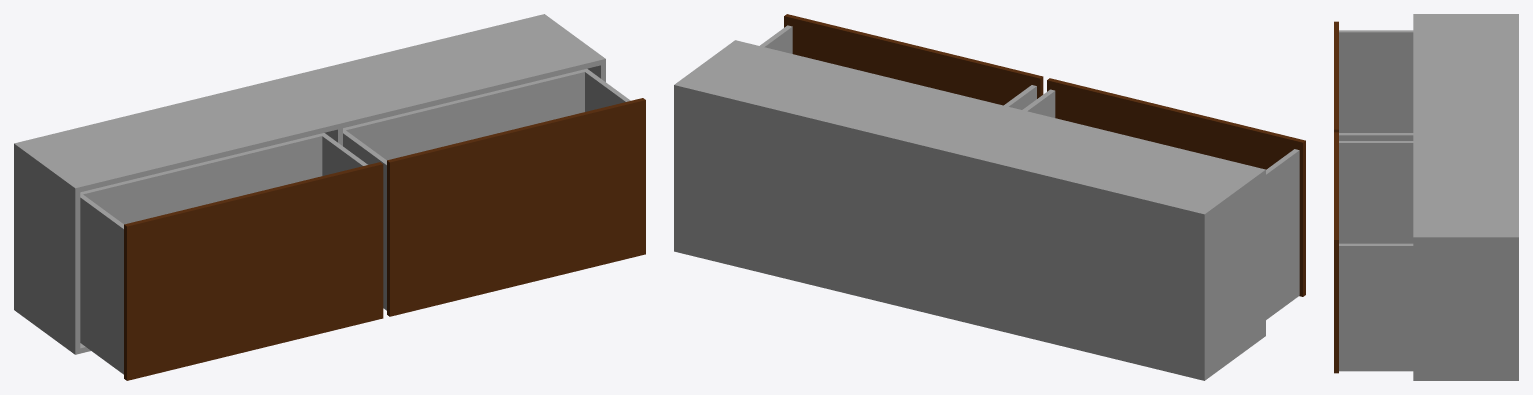
File: meuble_690f6765af9e5.glb
3 renders of one model, left to right at view 1: azimuth 30°, elevation 25°; view 2: azimuth 150°, elevation 25°; view 3: azimuth 270°, elevation 25°, orthographic. The views are drawn at different scales.
Parts seen in each view (by area): view 1: world; view 2: world; view 3: world.
Boxes of the visible parts, x1,y1,x2,y2 form: world: (14, 14, 645, 380); world: (674, 14, 1305, 380); world: (1334, 14, 1518, 380).
Bounding box in the file's own units: 2 × 0.6 × 0.7.
Materials: 1 (1 with a texture image).
